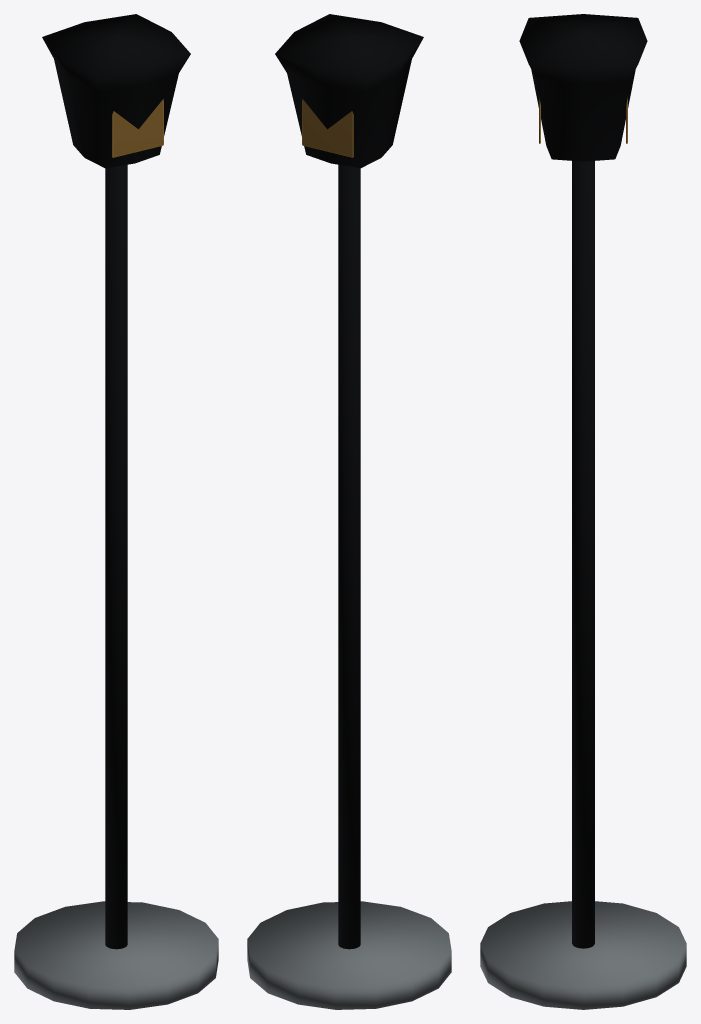
Rendered from lamp-post-level.glb.
3 renders of one model, left to right at view 1: azimuth 30°, elevation 25°; view 2: azimuth 150°, elevation 25°; view 3: azimuth 270°, elevation 25°, orthographic.
Parts seen in each view (by area): view 1: lamp-post-level; view 2: lamp-post-level; view 3: lamp-post-level.
Part boxes in pixels (box(x1,y1,x2,y2)): lamp-post-level: box(14, 14, 218, 1009); lamp-post-level: box(247, 14, 451, 1009); lamp-post-level: box(480, 14, 686, 1009).
Bounding box in the file's own units: 1 × 5 × 1.
1 material, 1 textured.
